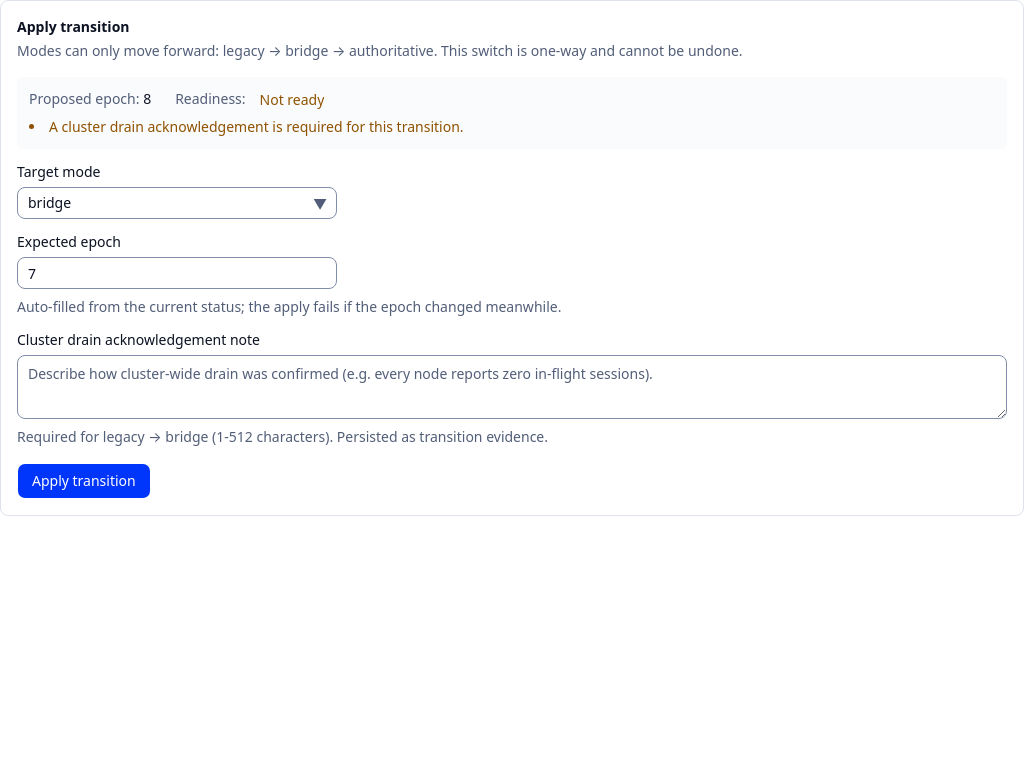
Test: ApplyTransitionCard › blocks submit without the required acknowledgement note for legacy to bridge
Click the button "Apply transition": point(84, 481) x1=17 y1=463 x2=151 y2=499
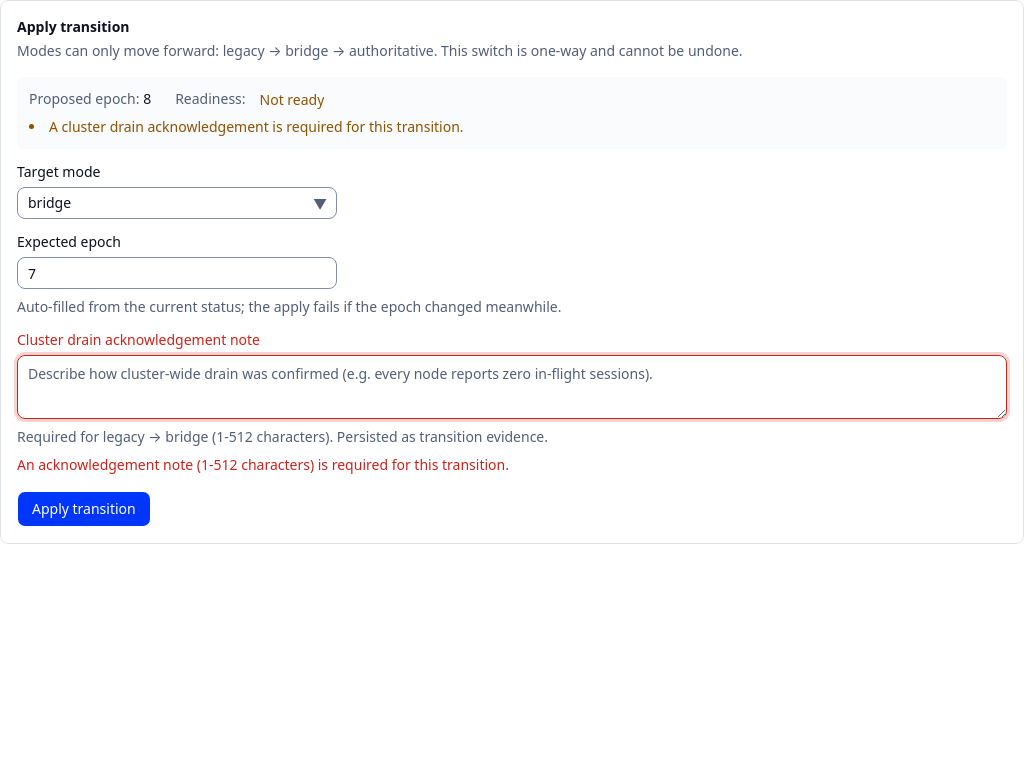
Expected: the text "An acknowledgement note (1-512 characters) is required for this transition." is shown, x1=17 y1=455 x2=509 y2=474
